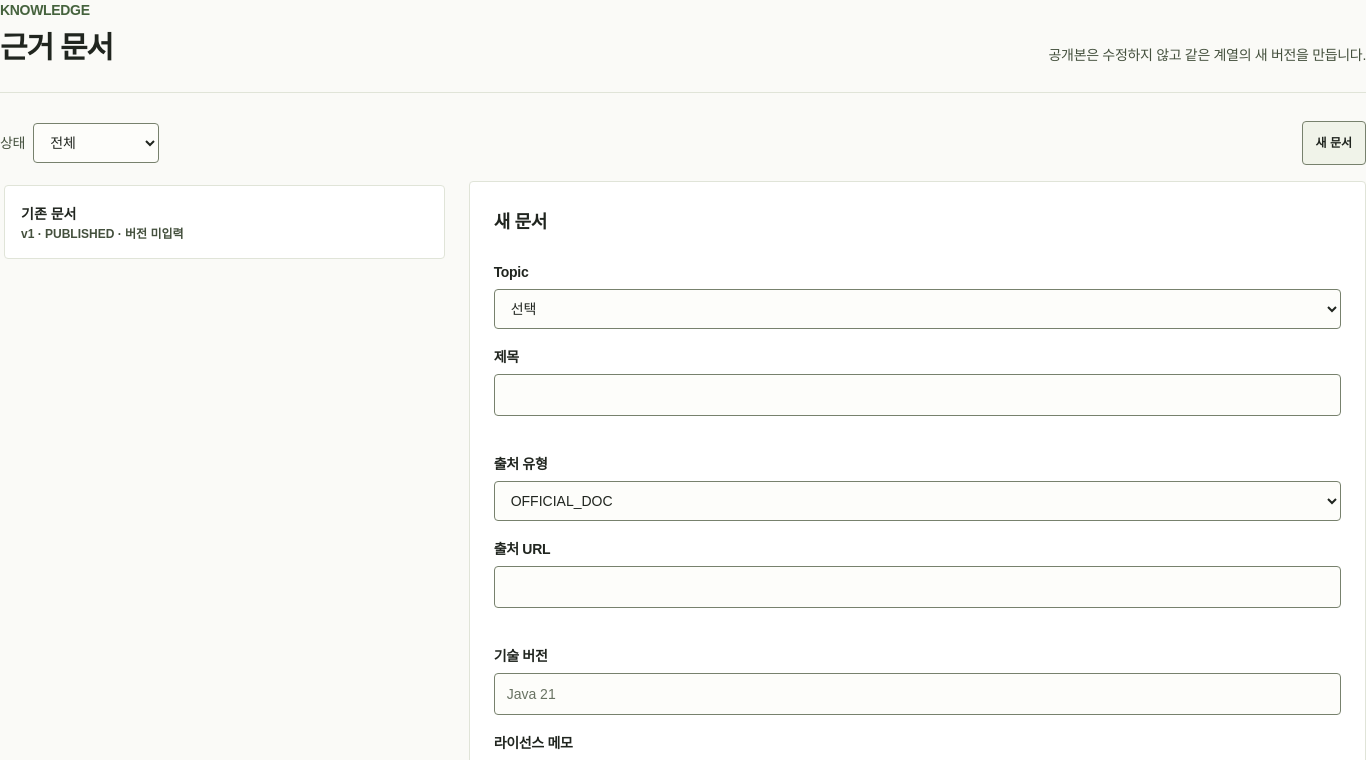
Scenario: 관리자 근거 문서 화면 › 폐기 성공 뒤 목록 갱신이 저장된 문서와 입력을 초기화하지 않는다
Click the button "기존 문서 v1 · PUBLISHED · 버전 미입력".
click(49, 214)  # box top-left (5, 186), bottom-right (444, 258)
(page scrolled)
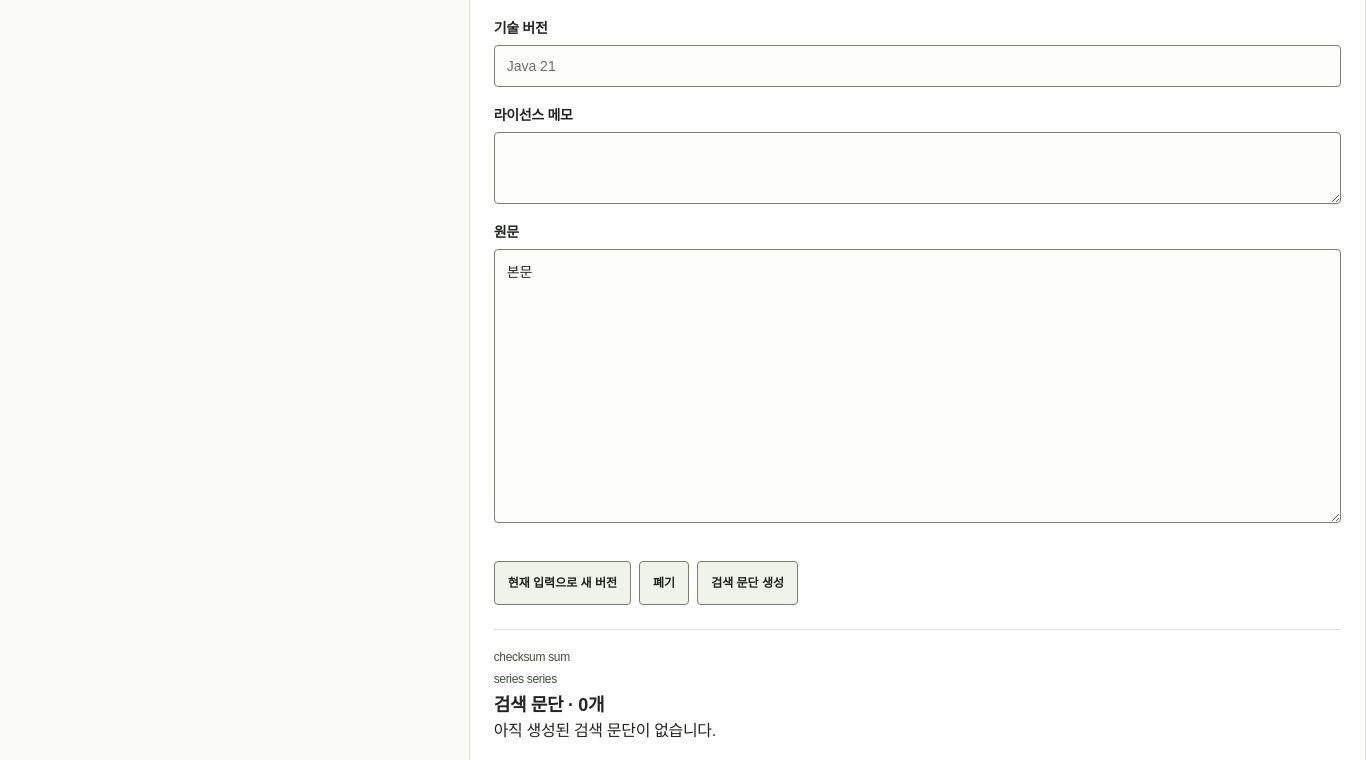
Click the button "폐기".
click(664, 583)  # box top-left (639, 561), bottom-right (689, 605)
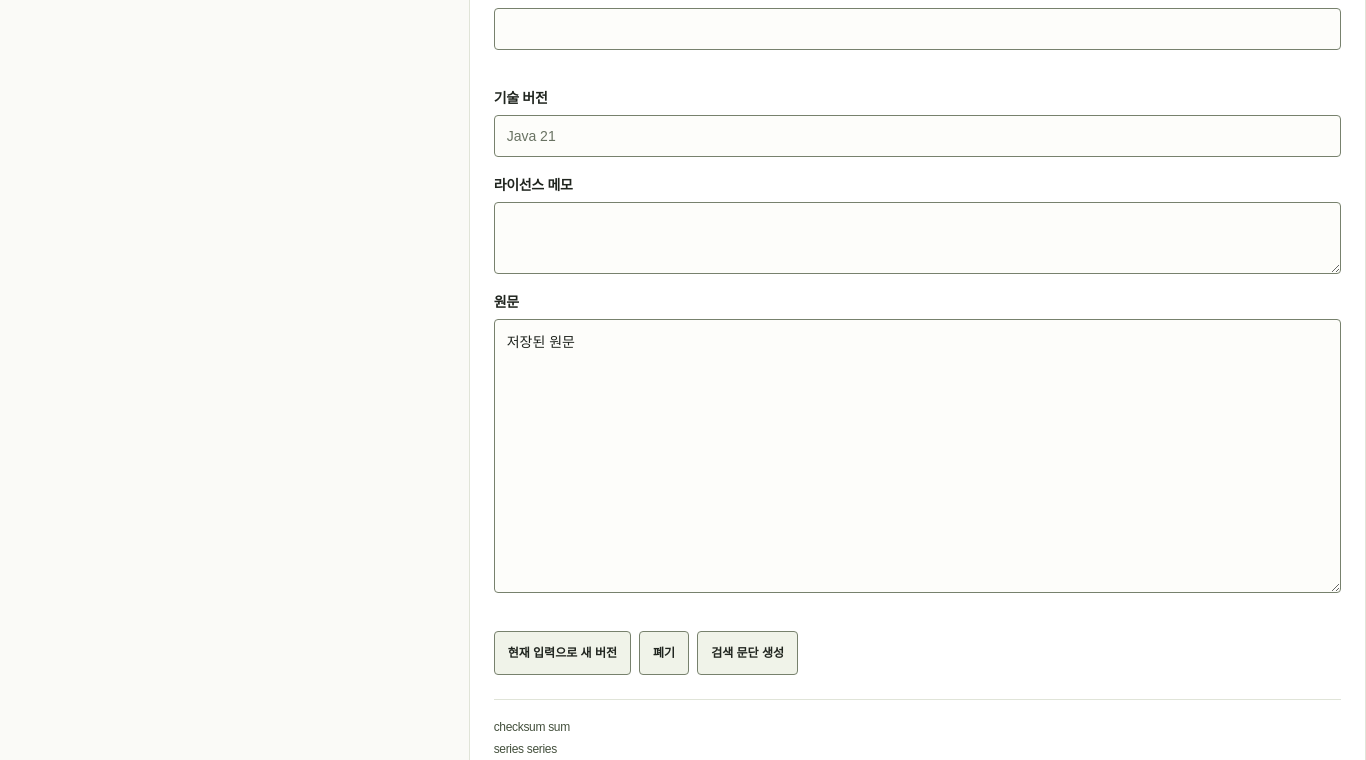
Expected: the text box labelled "원문" holds "저장된 원문", top-left (494, 319), bottom-right (1341, 593)
